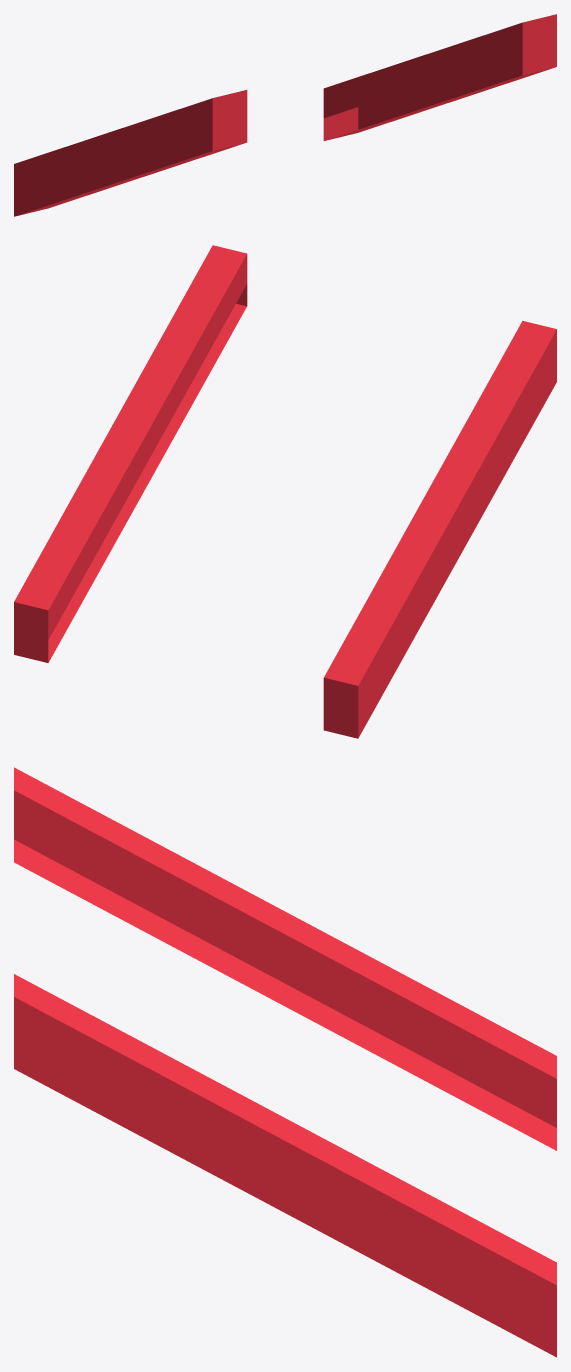
The model's file is ramp D paredes.FBX.
3 renders of one model, top to bottom at view 1: azimuth 30°, elevation 25°; view 2: azimuth 150°, elevation 25°; view 3: azimuth 270°, elevation 25°, orthographic. The views are drawn at different scales.
Parts seen in each view (by area): view 1: rampD; view 2: rampD; view 3: rampD.
Boxes of the visible parts, x1,y1,x2,y2 form: rampD: (14, 14, 556, 216); rampD: (14, 245, 556, 738); rampD: (14, 767, 556, 1357).
Bounding box in the file's own units: 99.99 × 73.33 × 99.99.
